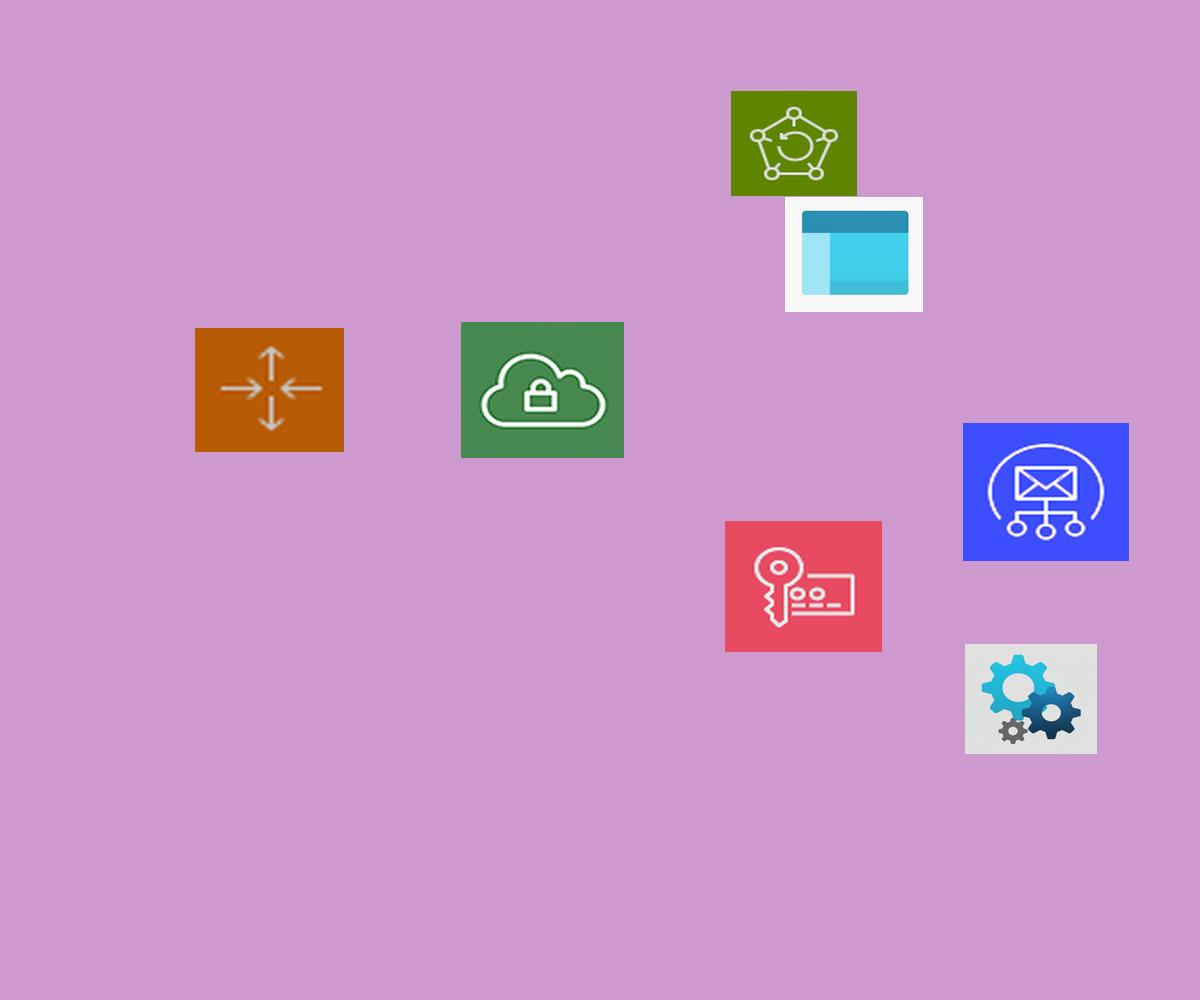AWS-Backup: (731, 91, 857, 196)
AWS-Key-Management-Service: (725, 521, 882, 652)
AWS-Private_vpc: (461, 322, 624, 458)
AWS-Scaling-group: (195, 328, 344, 452)
AWS-Simple-Email-Service: (963, 423, 1129, 561)
Azure_api: (965, 644, 1097, 754)
Azure_management-portal: (785, 197, 923, 312)
